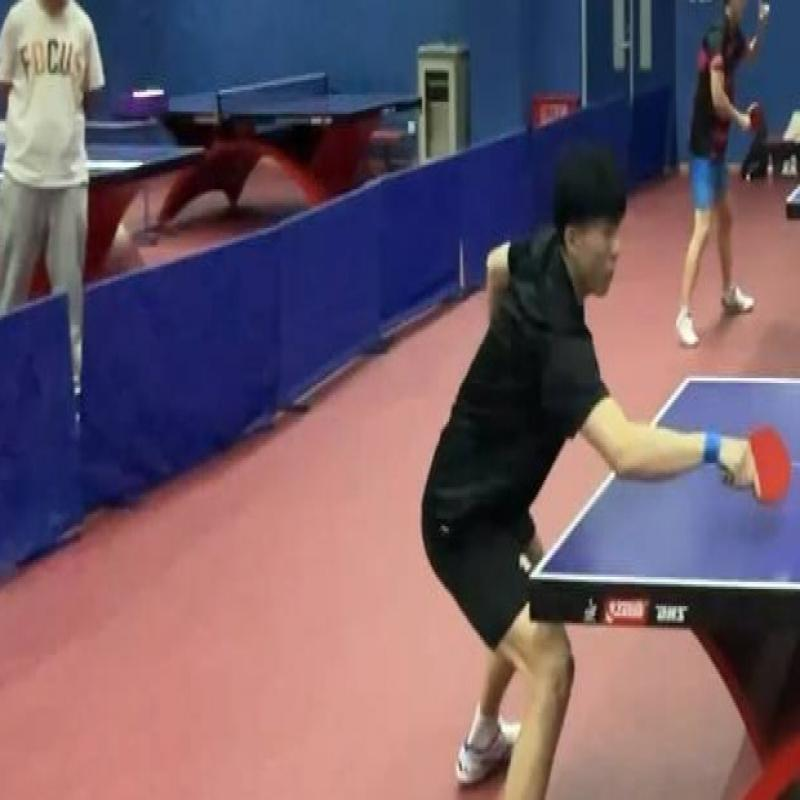bats: (731, 407, 792, 521)
